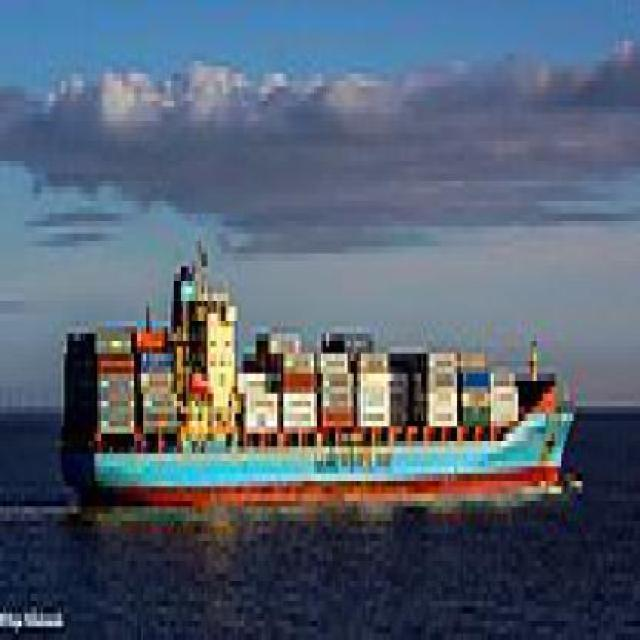container: (53, 208, 587, 548)
